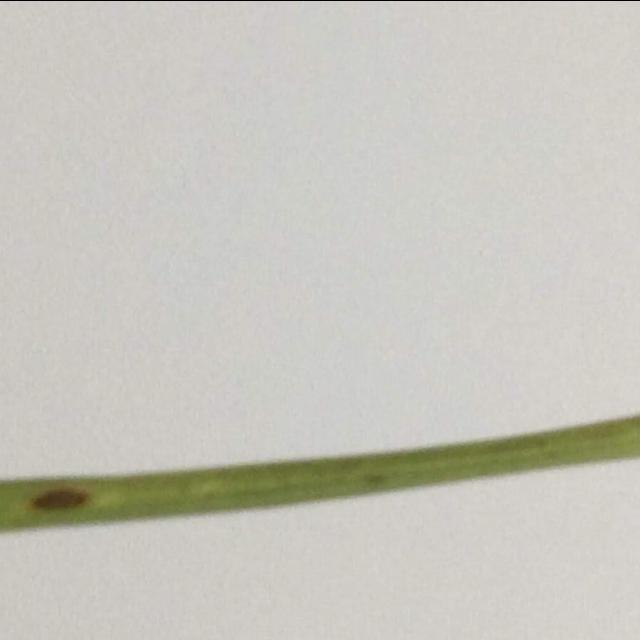Leaf blast: (0, 273, 640, 566)
